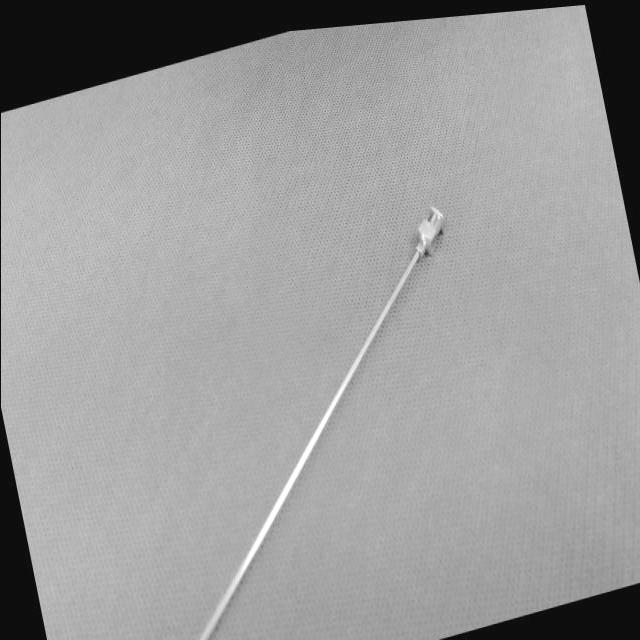Infectious: (414, 207, 445, 259)
Pathological: (1, 4, 640, 640)
Sharps: (193, 206, 446, 640)
